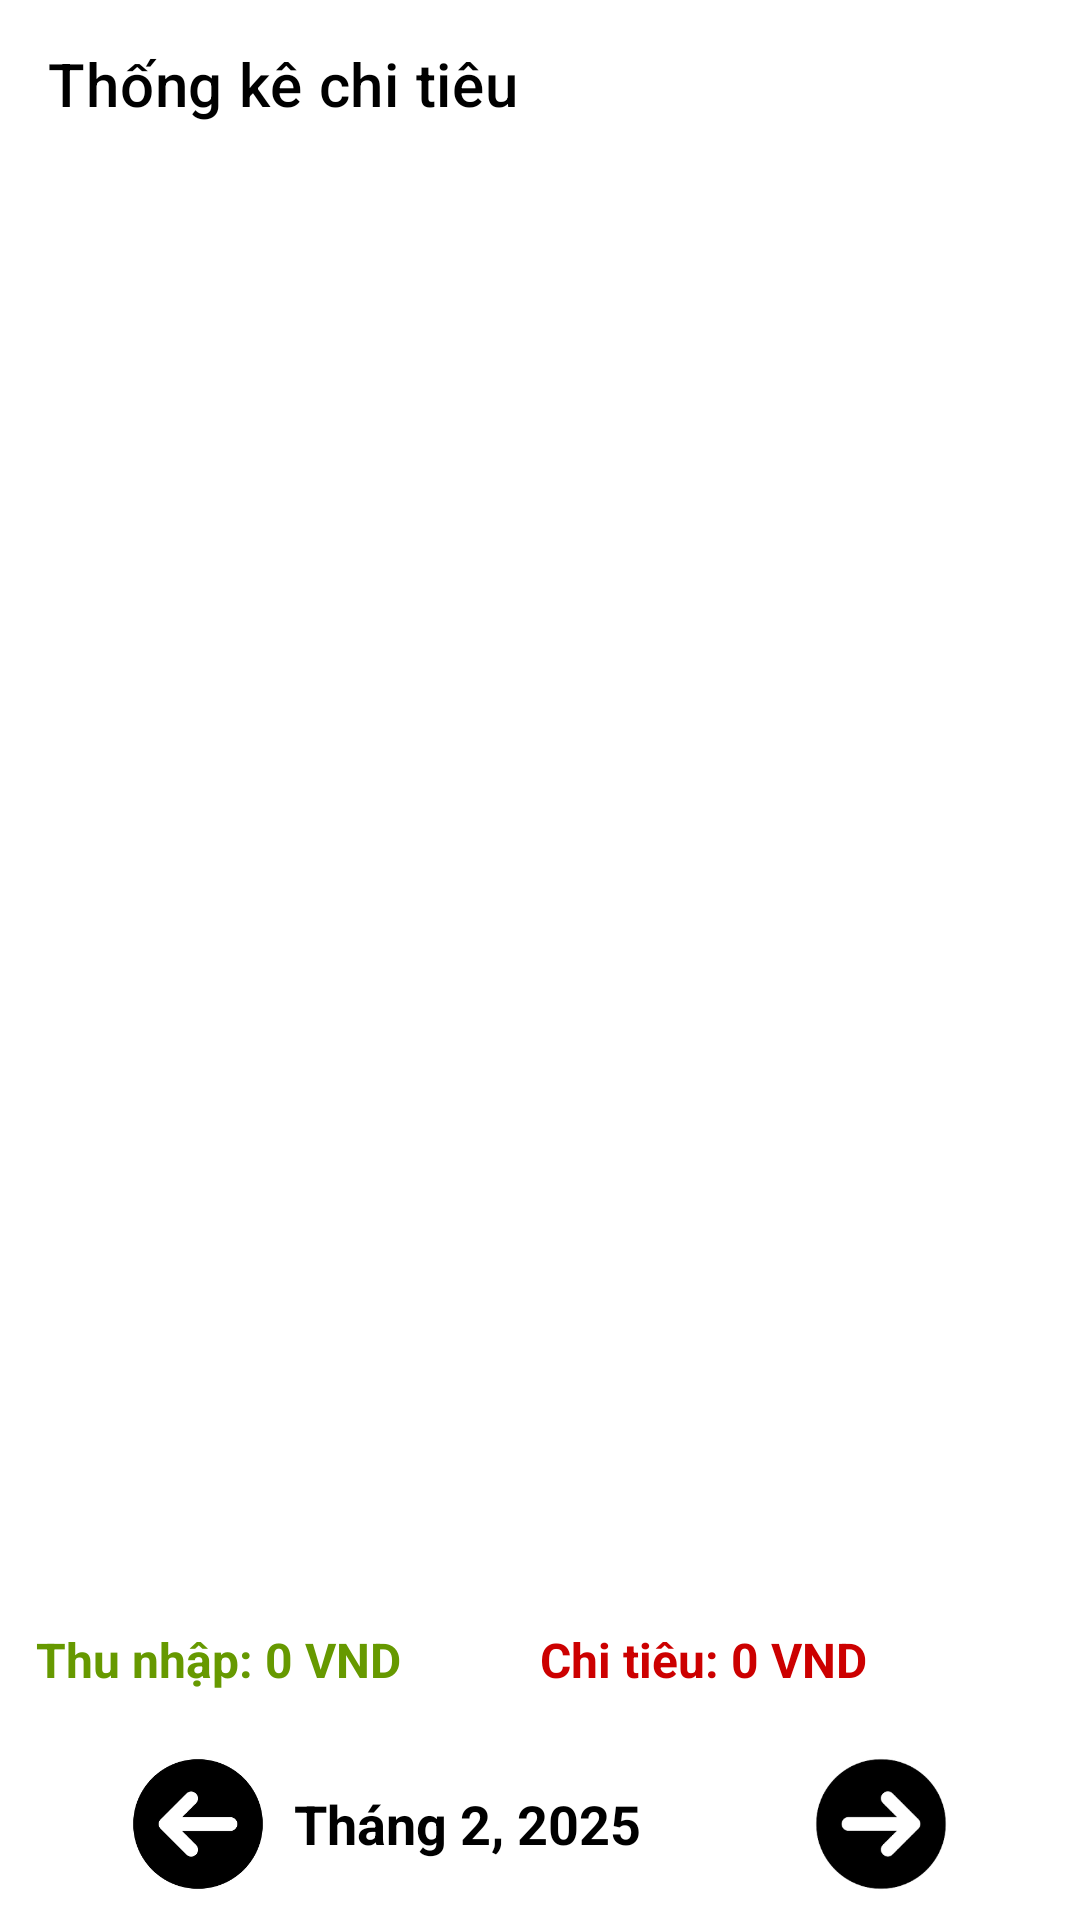

Icon click points for this 1080px x 1920px phone screenshot, format point (x, y):
Sau: point (881, 1824)
Trước: point (198, 1824)
